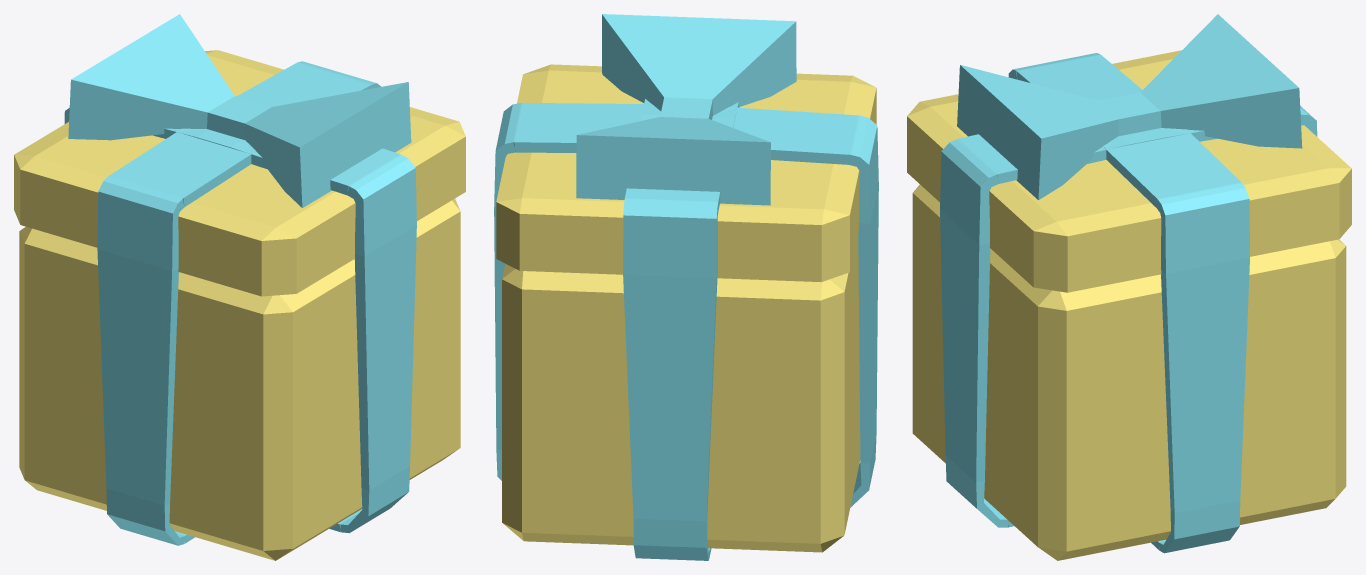
Rendered from gift4.fbx.
3 renders of one model, left to right at view 1: azimuth 30°, elevation 25°; view 2: azimuth 150°, elevation 25°; view 3: azimuth 270°, elevation 25°, orthographic. The views are drawn at different scales.
Parts seen in each view (by area): view 1: 立方體.079; view 2: 立方體.079; view 3: 立方體.079.
Boxes of the visible parts, <box> form: 立方體.079: <box>14,14,465,560</box>; 立方體.079: <box>494,14,878,560</box>; 立方體.079: <box>907,14,1351,560</box>.
Bounding box in the file's own units: 1502 × 1529 × 1502.
